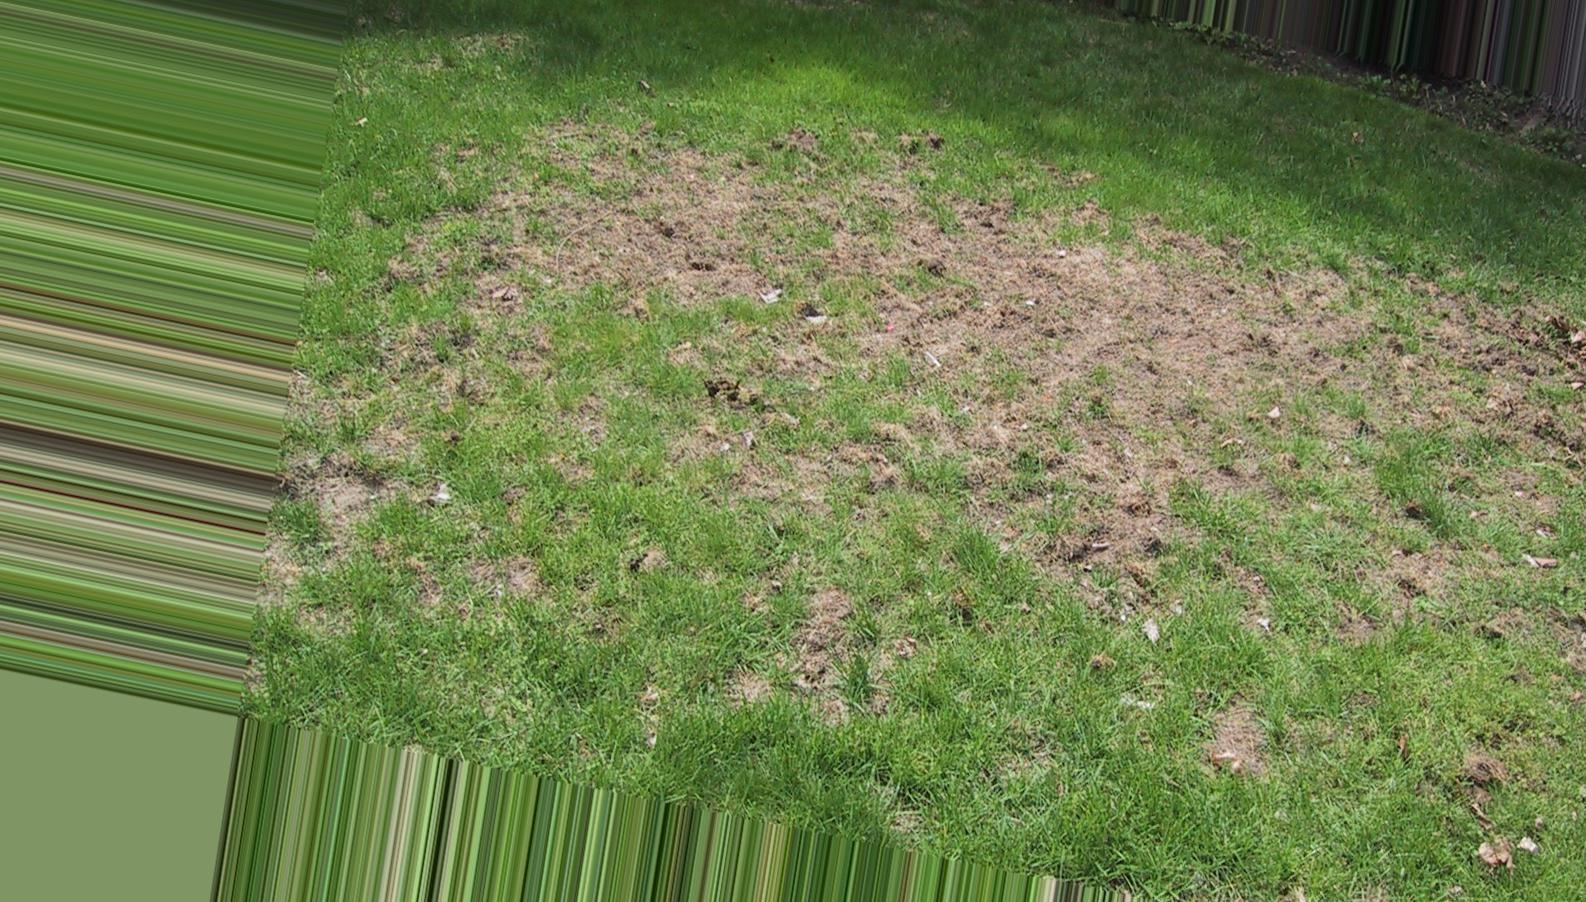patch: (1187, 285, 1494, 438), (896, 219, 1148, 395), (587, 171, 846, 302), (1018, 409, 1191, 571)
